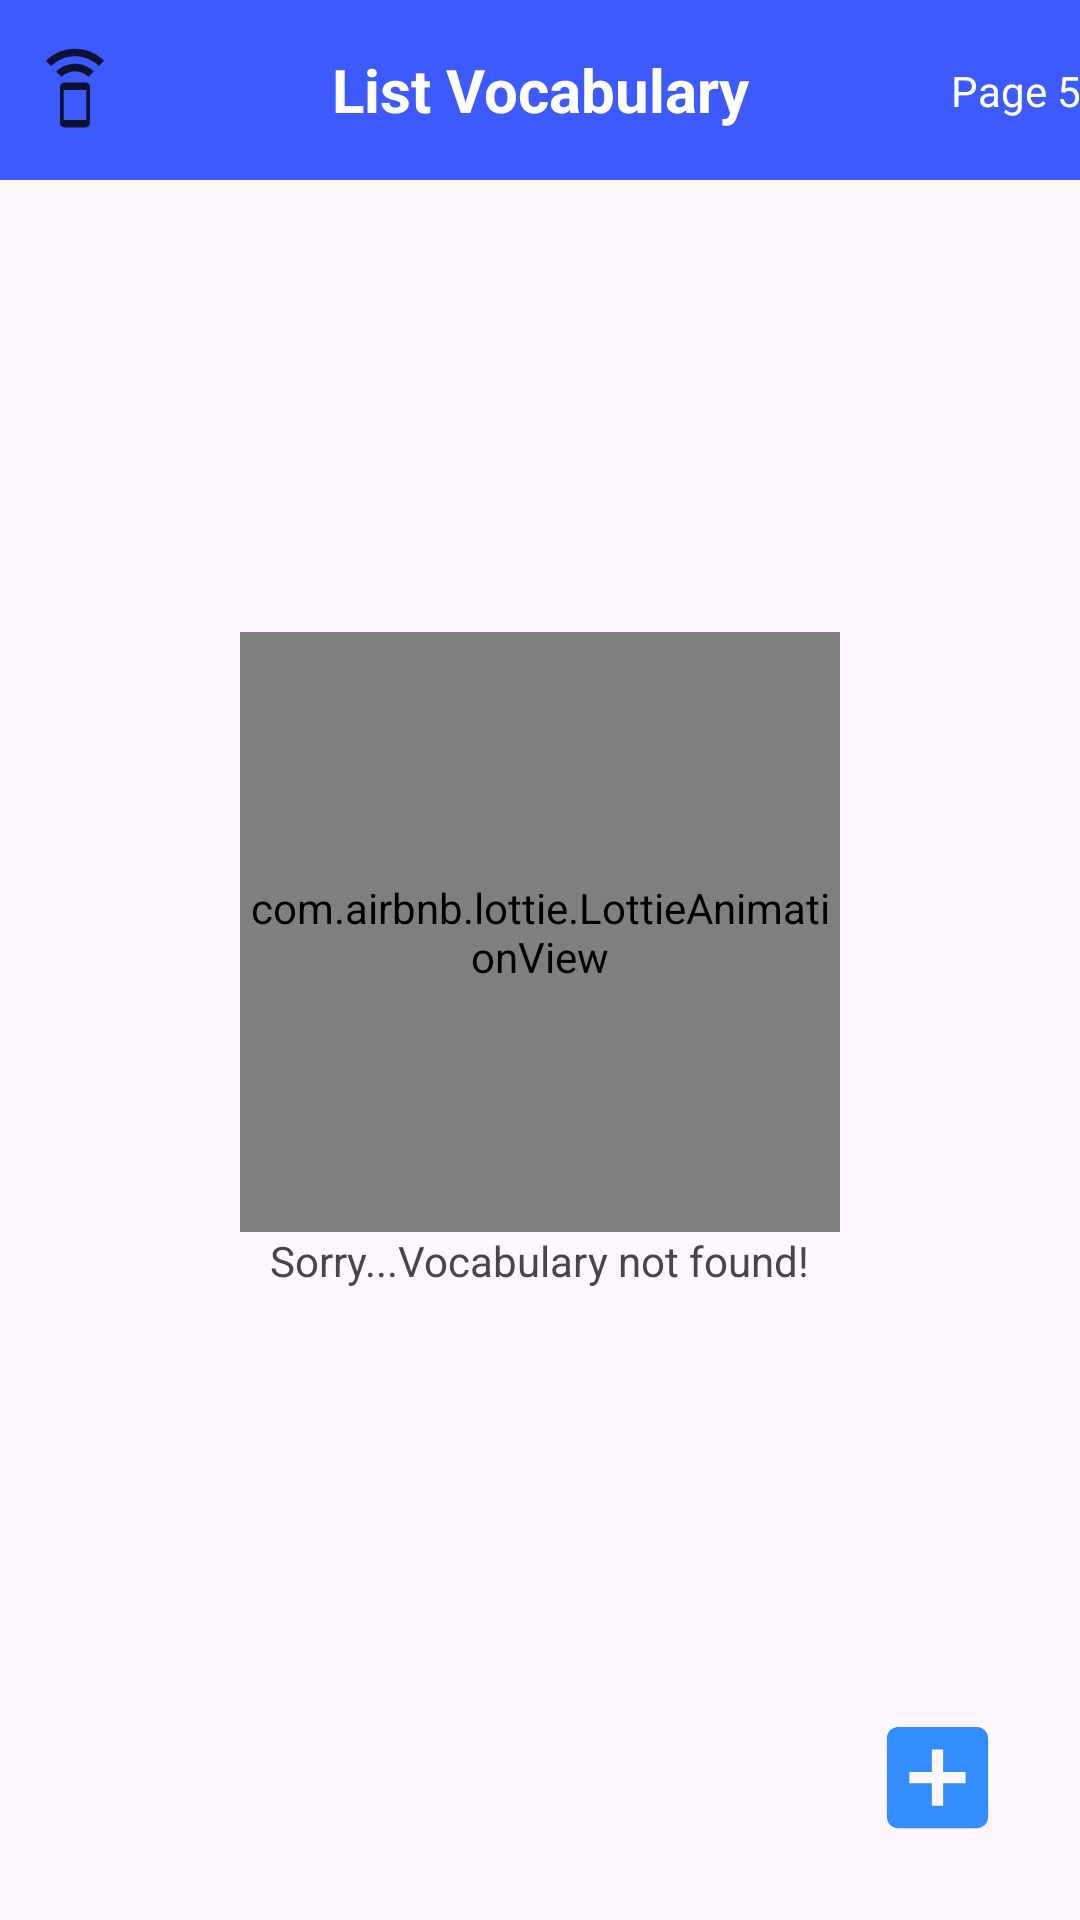

Icon bounding boxes for this 1080 x 1920 phone screenshot, format (x1, y1, x2, y2):
add: (886, 1727, 989, 1829)
